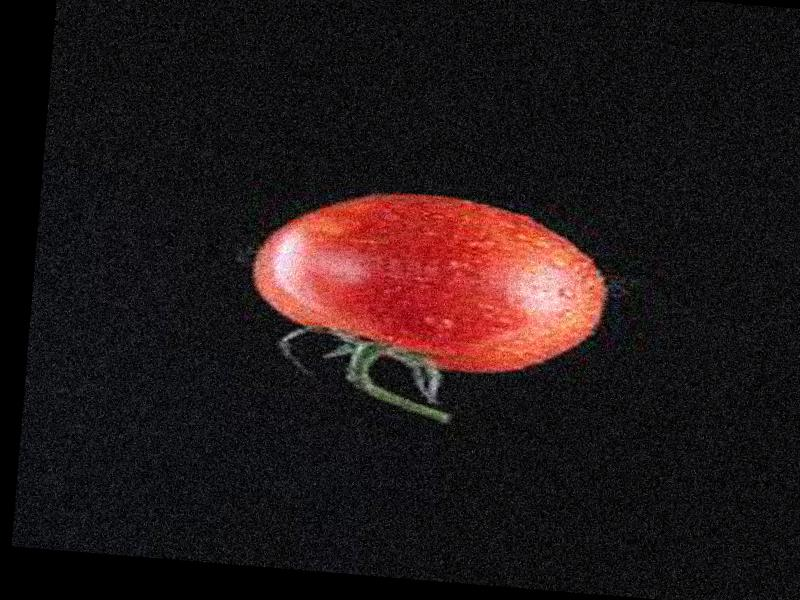Tomato: (247, 180, 614, 383)
